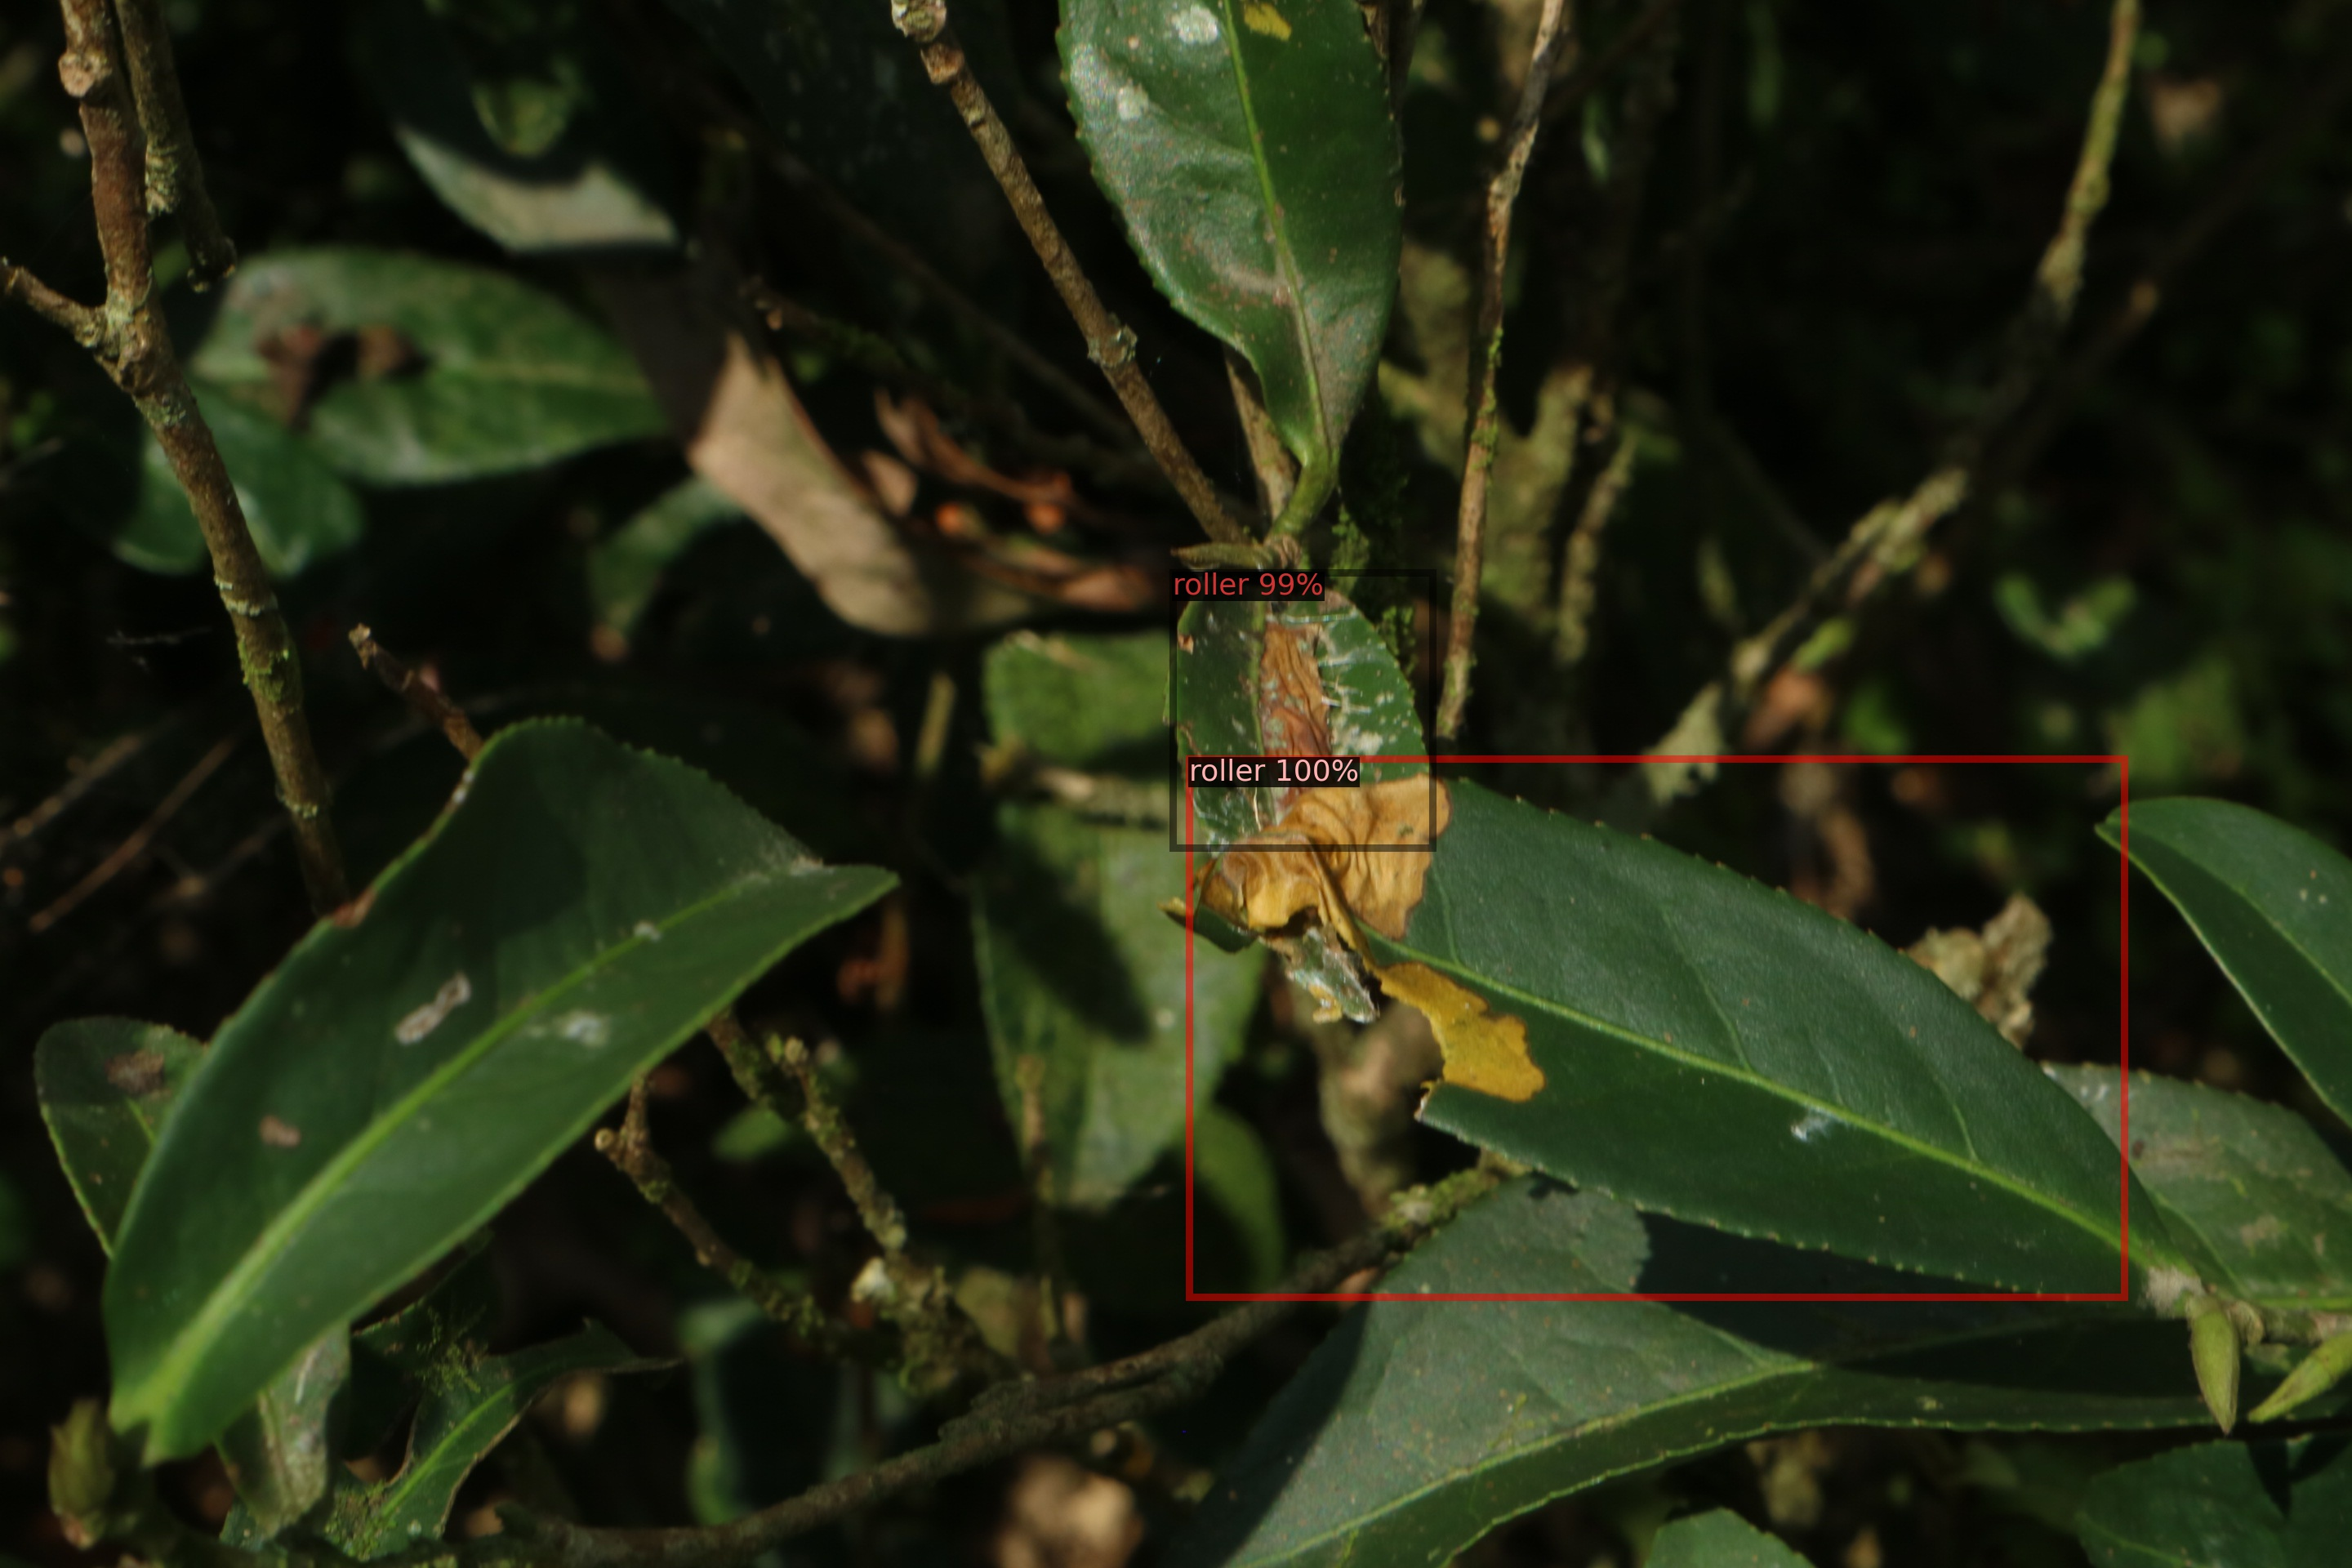roller: (1188, 758, 2124, 1297), (1172, 572, 1431, 847)
